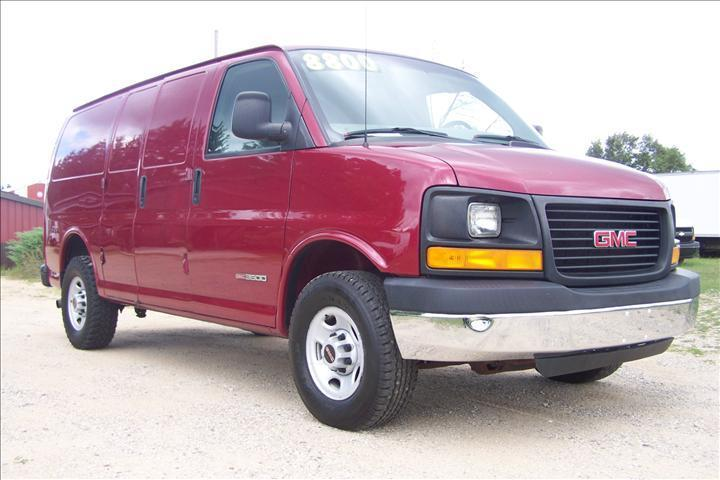car: (41, 39, 702, 430)
